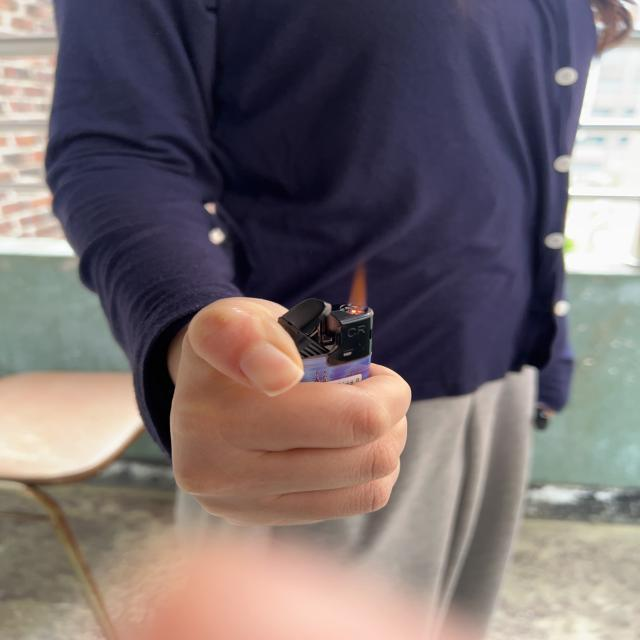fire: (345, 258, 370, 314)
